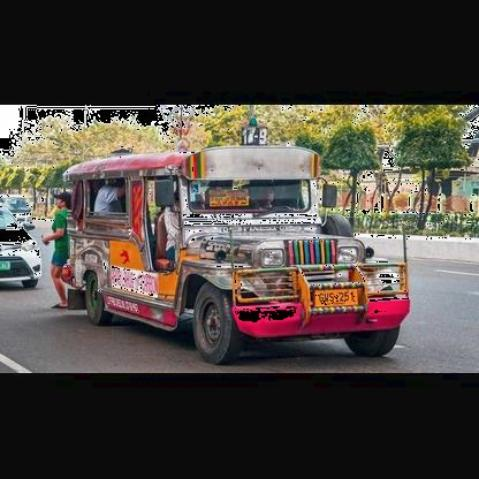jeepney: (58, 138, 414, 360)
